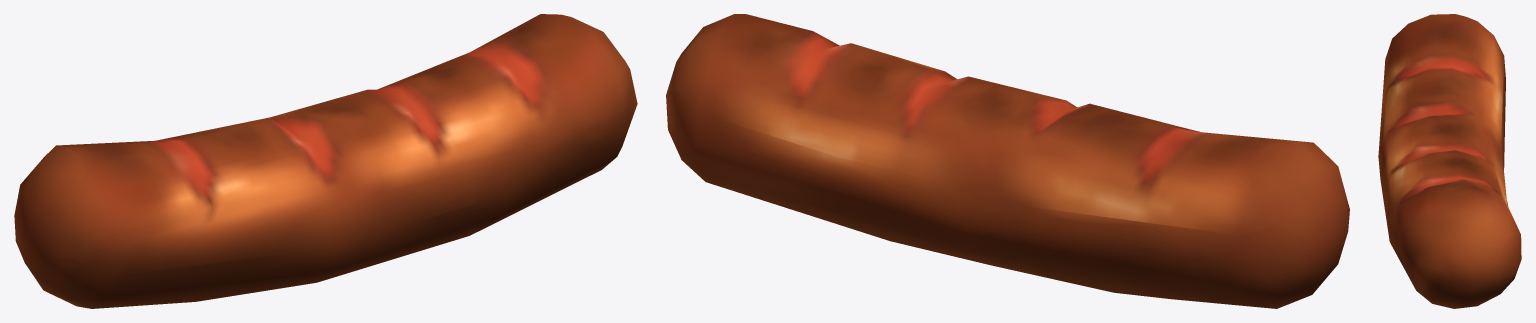
The model's file is 20a11a17-d105-42eb-a0ff-ba6fa7beb65b.glb.
3 renders of one model, left to right at view 1: azimuth 30°, elevation 25°; view 2: azimuth 150°, elevation 25°; view 3: azimuth 270°, elevation 25°, orthographic. The views are drawn at different scales.
Parts seen in each view (by area): view 1: Sausage; view 2: Sausage; view 3: Sausage.
Boxes of the visible parts, x1,y1,x2,y2 form: Sausage: [14, 14, 637, 308]; Sausage: [666, 14, 1349, 308]; Sausage: [1378, 14, 1521, 308].
Bounding box in the file's own units: 0.2236 × 0.0617 × 0.0614.
Materials: 1 (1 with a texture image).
